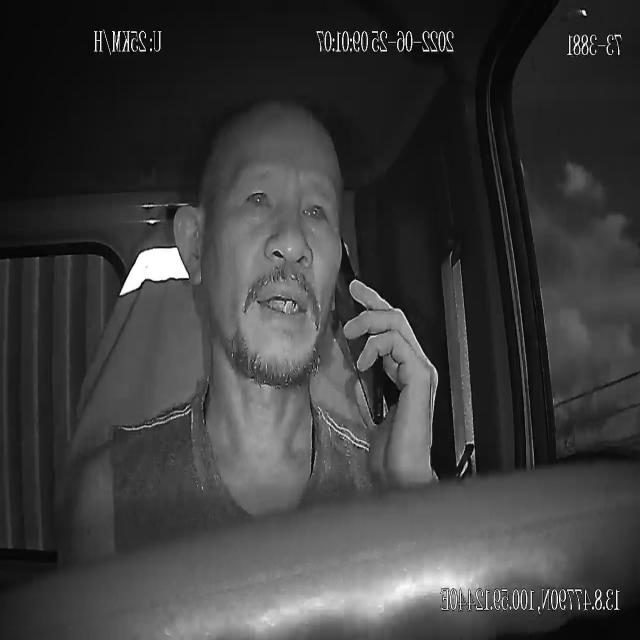phone: (333, 235, 388, 426)
